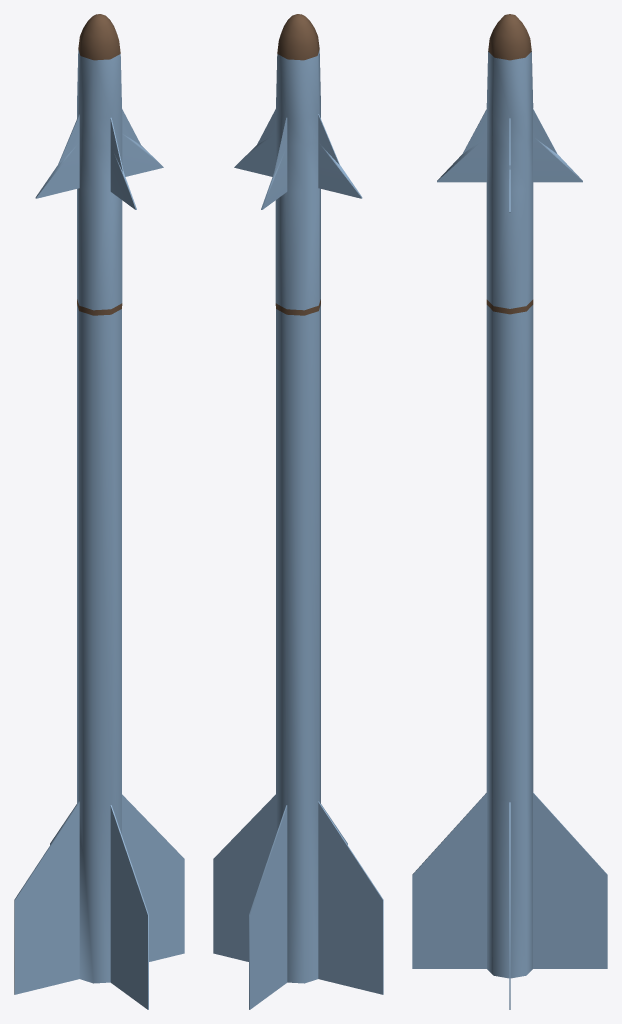
Rendered from aim9.glb.
The picture shows the model from 3 angles, left to right: view 1: azimuth 30°, elevation 25°; view 2: azimuth 150°, elevation 25°; view 3: azimuth 270°, elevation 25°; orthographic projection.
Parts seen in each view (by area): view 1: db_aim9lm_pl1_Geometry_0.001, db_aim9lm_pl10_Geometry_0.001; view 2: db_aim9lm_pl1_Geometry_0.001, db_aim9lm_pl10_Geometry_0.001; view 3: db_aim9lm_pl1_Geometry_0.001, db_aim9lm_pl10_Geometry_0.001.
Part boxes in pixels (x1,y1,x2,y2): db_aim9lm_pl1_Geometry_0.001: [14, 50, 184, 1009]; db_aim9lm_pl10_Geometry_0.001: [77, 14, 122, 315]; db_aim9lm_pl1_Geometry_0.001: [213, 50, 383, 1009]; db_aim9lm_pl10_Geometry_0.001: [275, 14, 320, 315]; db_aim9lm_pl1_Geometry_0.001: [412, 51, 607, 1009]; db_aim9lm_pl10_Geometry_0.001: [486, 14, 533, 314].
Size of the model in its own units: 0.5186 by 2.8 by 0.5186.
